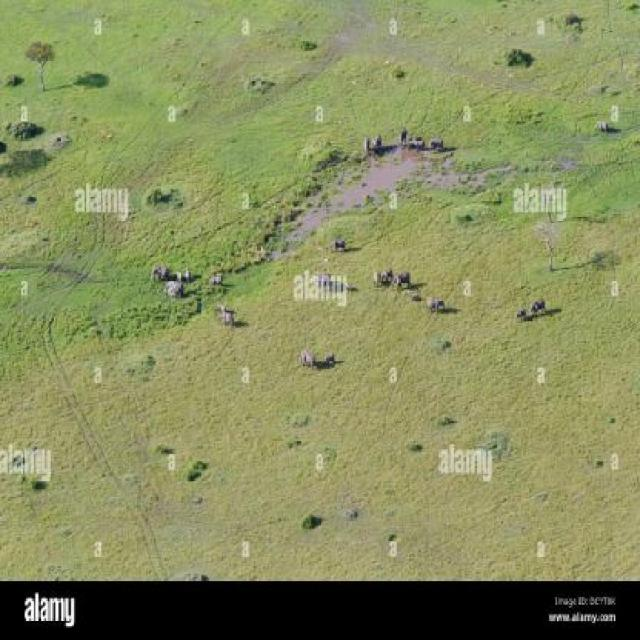elephant: (426, 296, 448, 318), (332, 233, 353, 256), (530, 291, 547, 318), (152, 259, 170, 284), (392, 272, 413, 293), (208, 269, 225, 293), (163, 281, 183, 301), (429, 134, 448, 152), (408, 134, 428, 151), (299, 348, 315, 369), (316, 270, 333, 287), (218, 312, 236, 328), (395, 126, 408, 146), (324, 352, 339, 368), (370, 270, 382, 290), (182, 267, 196, 284), (515, 304, 528, 322), (374, 132, 384, 154), (341, 278, 354, 294), (380, 267, 394, 281), (408, 288, 419, 303), (218, 302, 228, 316), (362, 134, 369, 154), (407, 136, 416, 150), (174, 268, 183, 280)
